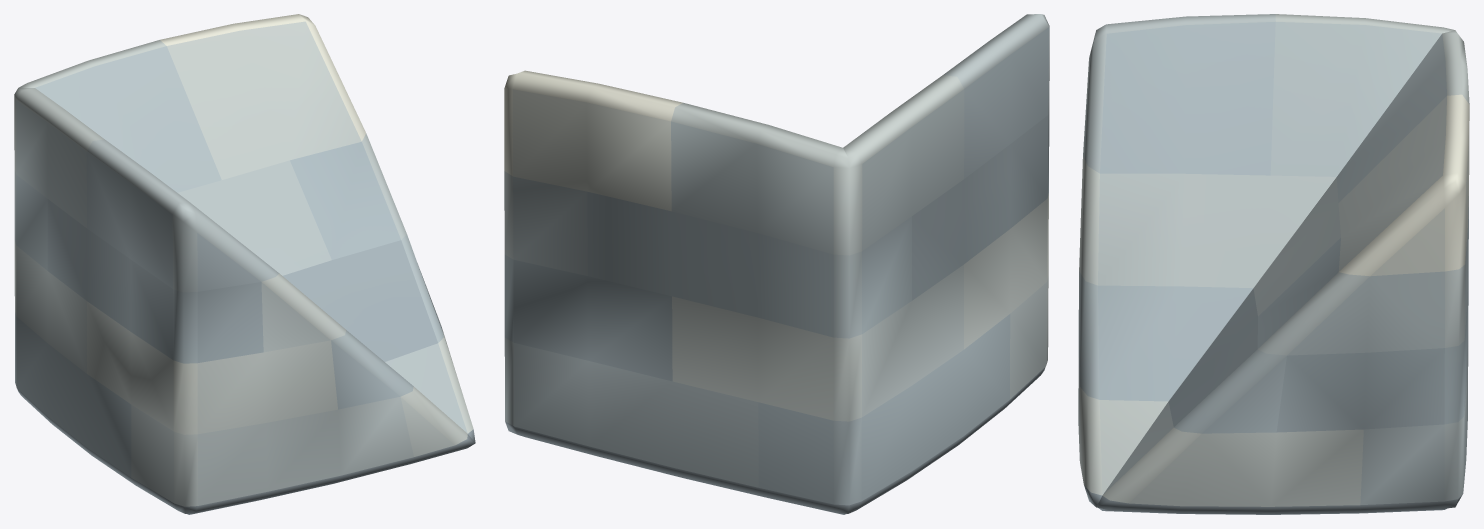
The model's file is Quartz_4x4_Slope_Inner.fbx.
The picture shows the model from 3 angles, left to right: view 1: azimuth 30°, elevation 25°; view 2: azimuth 150°, elevation 25°; view 3: azimuth 270°, elevation 25°; orthographic projection. The views are drawn at different scales.
Parts seen in each view (by area): view 1: Quartz_4x4_Slope_Inner_LOD0; view 2: Quartz_4x4_Slope_Inner_LOD0; view 3: Quartz_4x4_Slope_Inner_LOD0.
Boxes of the visible parts, left/top/right/bottom form: Quartz_4x4_Slope_Inner_LOD0: left=14, top=14, right=475, bottom=514; Quartz_4x4_Slope_Inner_LOD0: left=504, top=14, right=1049, bottom=514; Quartz_4x4_Slope_Inner_LOD0: left=1078, top=14, right=1469, bottom=514.
Size of what is drawn, in the model's own units: 1.11 by 1.08 by 1.09.
